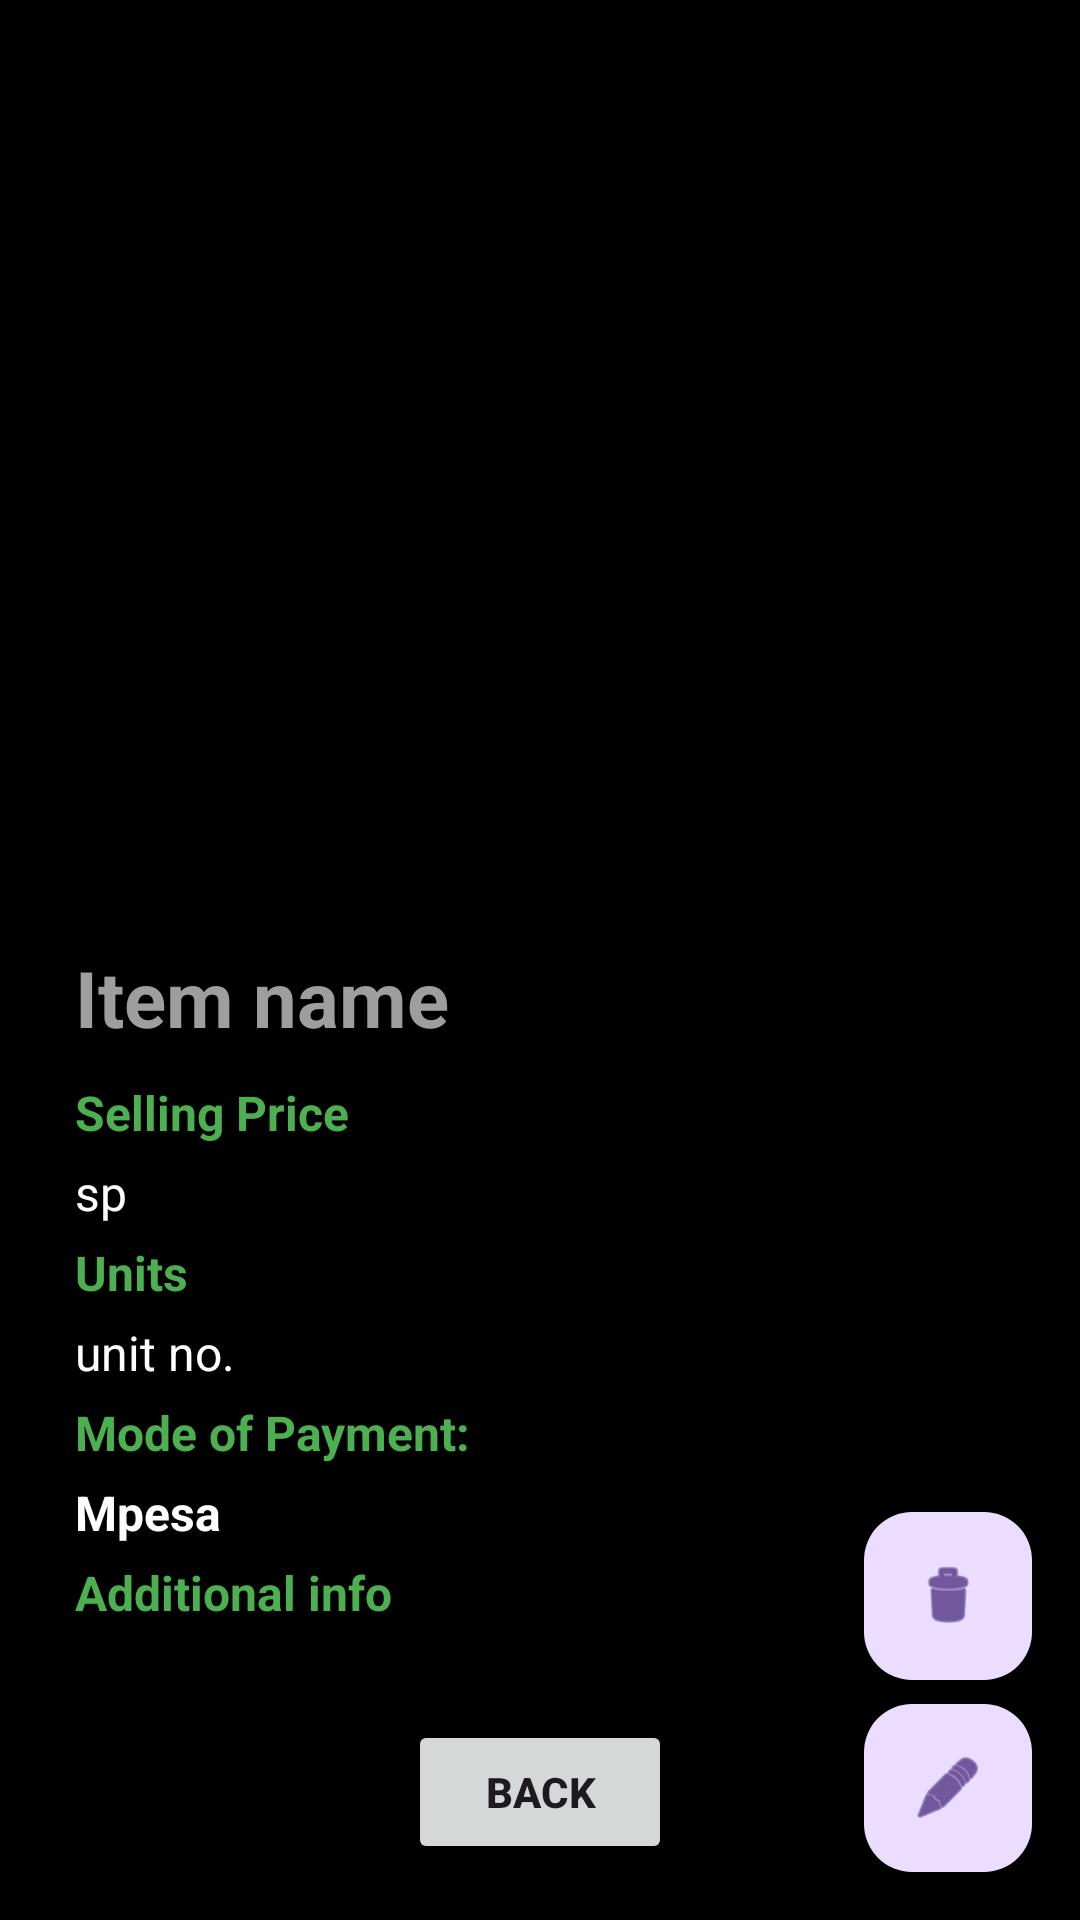

Point at icon controls on the screen. Image size 1080*1920, points as (x=x, y=y).
delete: (x=948, y=1596)
edit: (x=948, y=1788)
